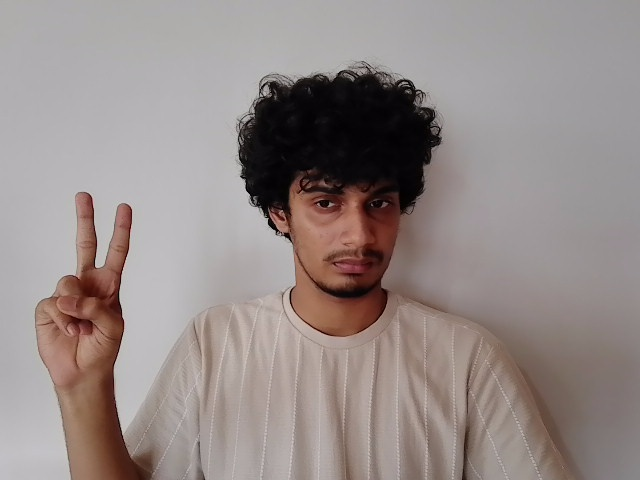travel: (33, 193, 144, 379)
